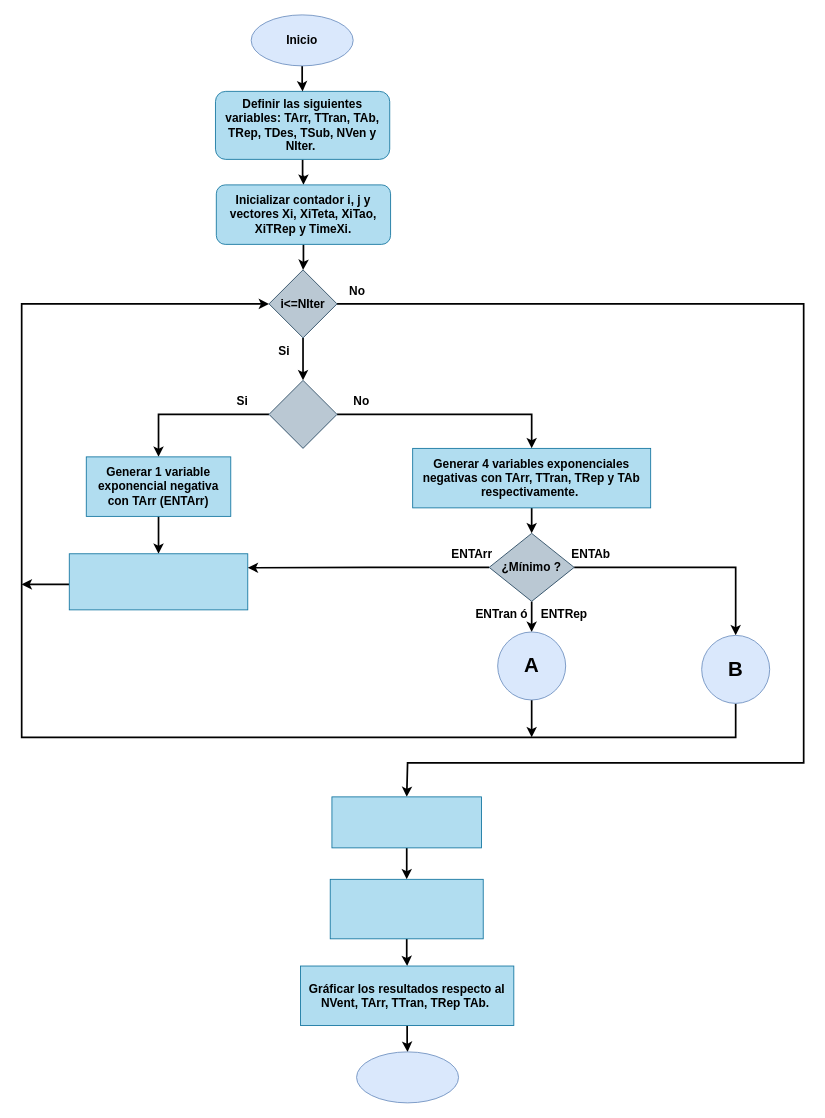
Some shapes in this 825 by 1118 pixel diagram are drawn without their labels. The shapes that lost their labels are listed below. From the top down, each one's box as (x1, y1, x2, y2) in pixels, then its label:
(268, 380, 337, 448): ¿Xi==0?
(68, 553, 248, 610): Xi(1)=Xi(1)+1 TimeXi(1)=TimeXi(1)+ENTArr
(331, 796, 482, 848): Calcular el tiempo total de simulación
(329, 878, 483, 939): Obtener el tiempo de estancia promedio por ventana
(356, 1051, 459, 1103): Fin
